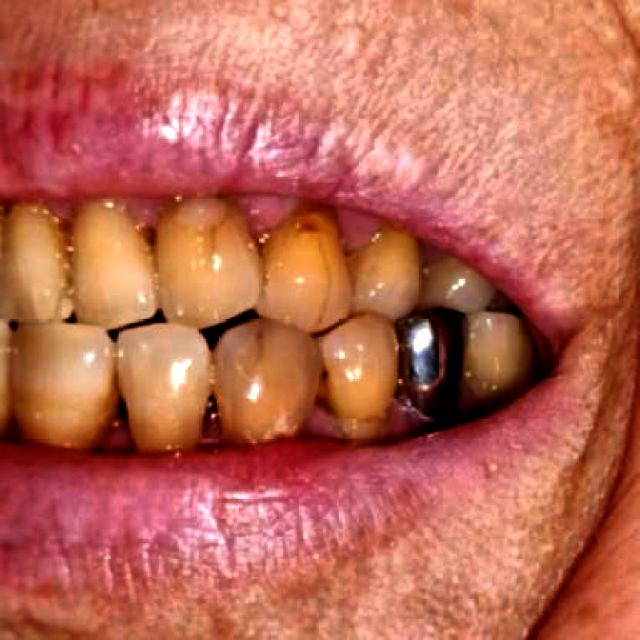Plaque: (311, 357, 337, 389)
